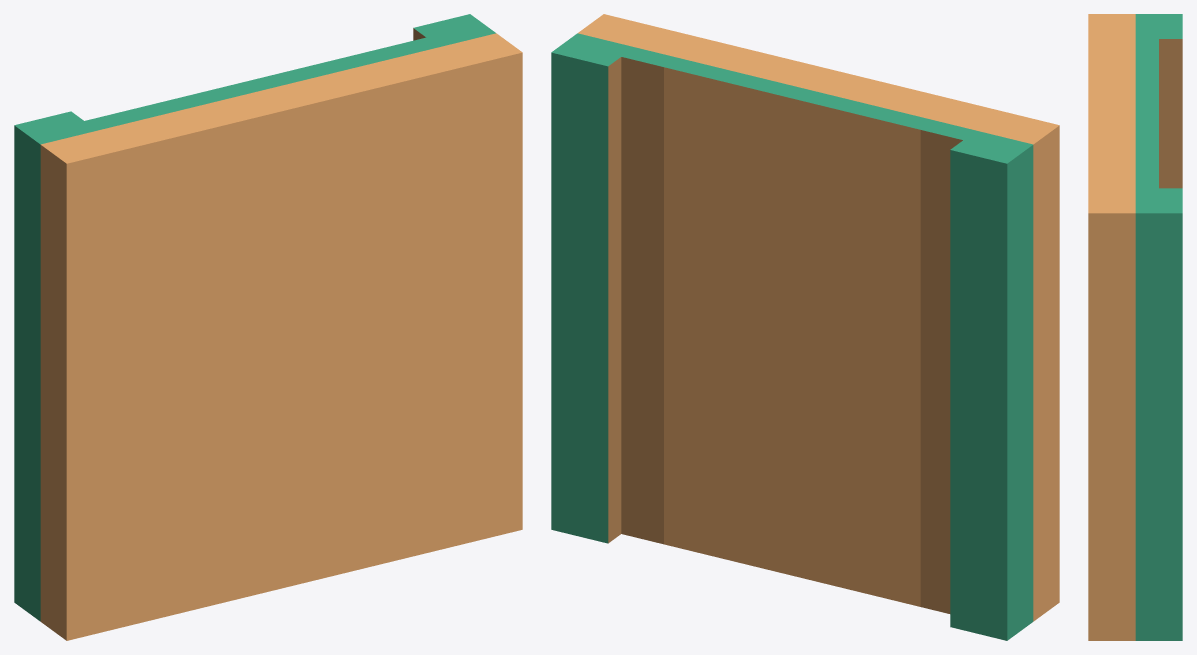
The model's file is tile_straight.008.obj.
The picture shows the model from 3 angles, left to right: view 1: azimuth 30°, elevation 25°; view 2: azimuth 150°, elevation 25°; view 3: azimuth 270°, elevation 25°; orthographic projection. The views are drawn at different scales.
Parts seen in each view (by area): view 1: tile_straight.006; view 2: tile_straight.006; view 3: tile_straight.006.
Boxes of the visible parts, x1,y1,x2,y2 form: tile_straight.006: (14, 14, 522, 640); tile_straight.006: (551, 14, 1059, 640); tile_straight.006: (1088, 14, 1182, 640).
Bounding box in the file's own units: 1 × 1 × 0.2.
